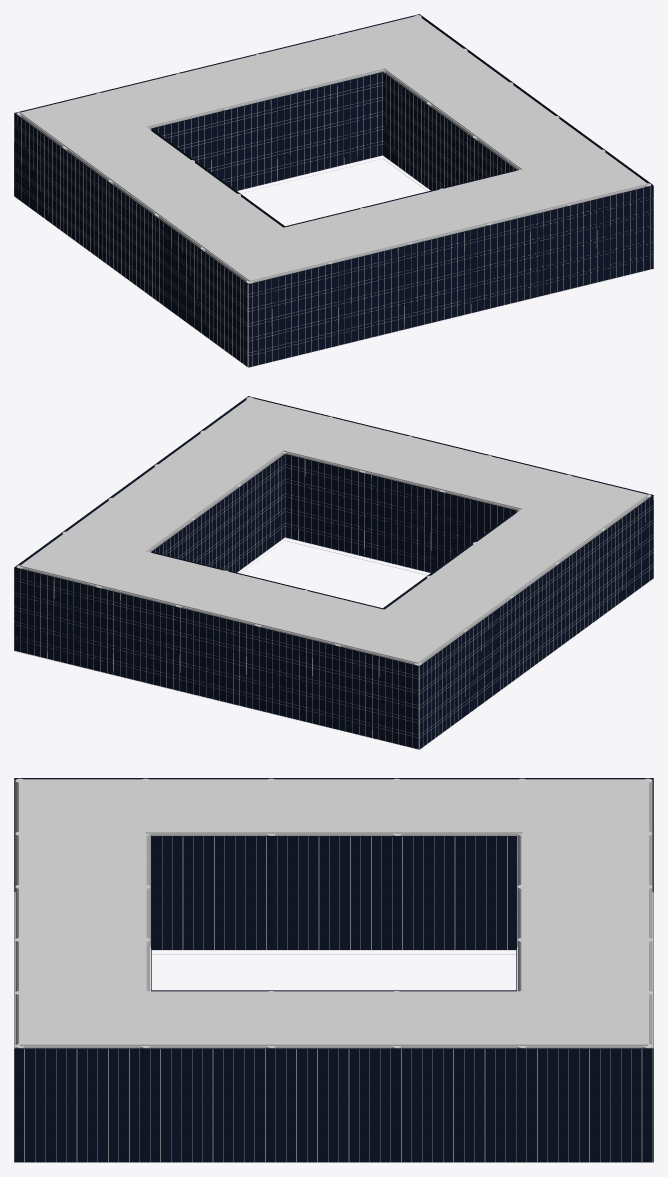
The model's file is Base_16AK_Cloth.fbx.
3 views of the same model, one above another, from view 1: azimuth 30°, elevation 25°; view 2: azimuth 150°, elevation 25°; view 3: azimuth 270°, elevation 25° (orthographic). The views are drawn at different scales.
Parts seen in each view (by area): view 1: 预设值; view 2: 预设值; view 3: 预设值.
Part boxes in pixels (x1=…): 预设值: x1=14, y1=14, x2=653, y2=367; 预设值: x1=14, y1=396, x2=653, y2=749; 预设值: x1=14, y1=778, x2=653, y2=1162.
Size of the model in its own units: 61.18 by 61.17 by 12.64.
